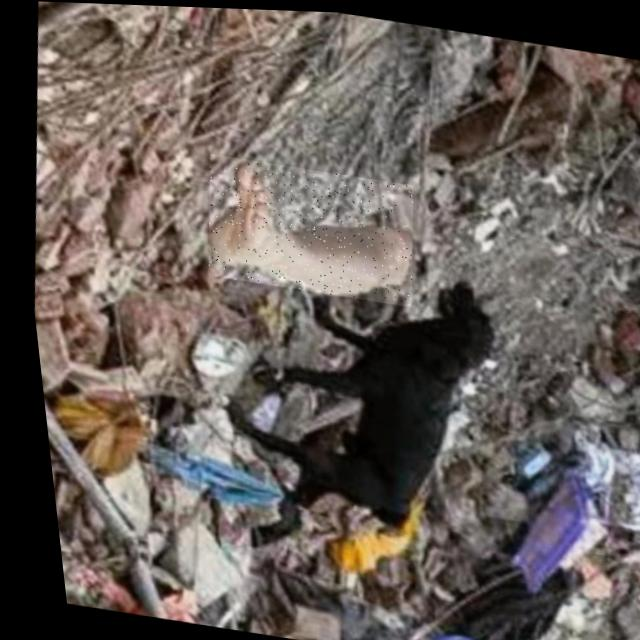Person in Rubble: (190, 151, 418, 304)
